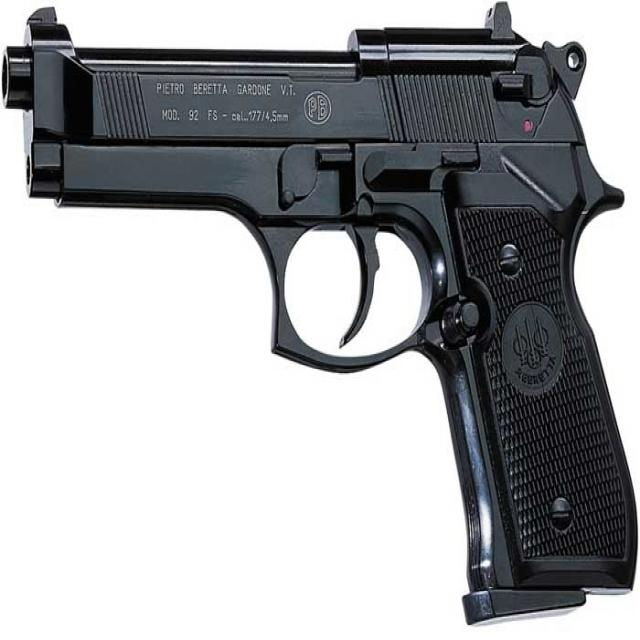gun: (2, 11, 638, 632)
